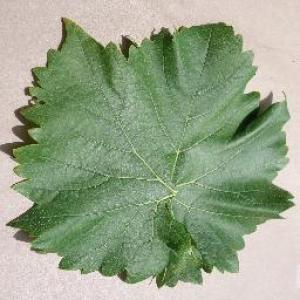Folha: (0, 15, 295, 287)
